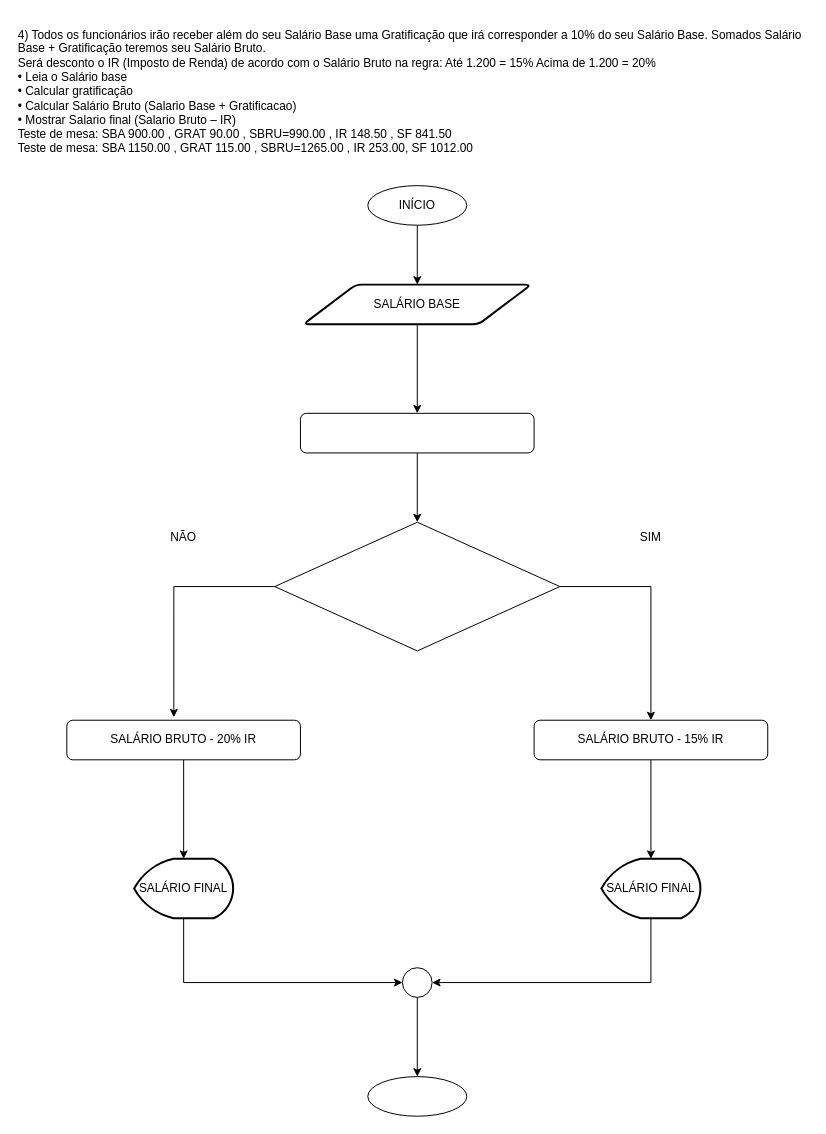
This 826x1134 diagram has some shape labels left out. Each missing label, with the centre of its shape:
FIM: the point at 417,1096
SALÁRIO BRUTO <= R$1200?: the point at 417,586
SALÁRIO BRUTO = SB + GRAT(10%): the point at 416,432
